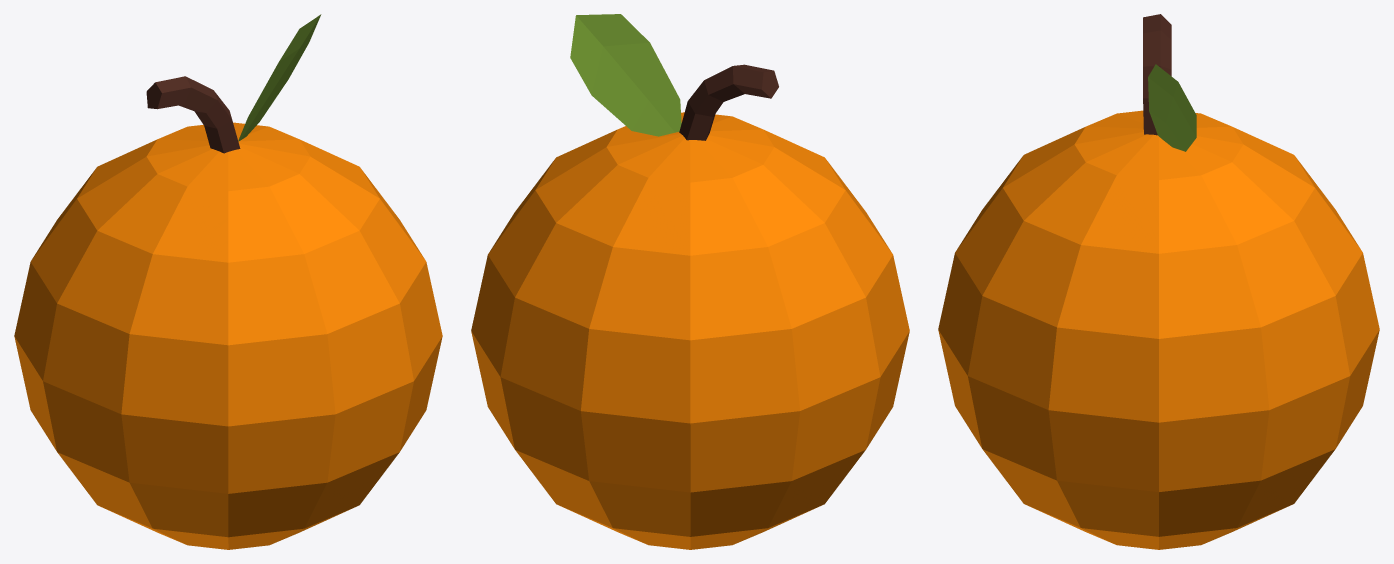
Rendered from orange.fbx.
The picture shows the model from 3 angles, left to right: view 1: azimuth 30°, elevation 25°; view 2: azimuth 150°, elevation 25°; view 3: azimuth 270°, elevation 25°; orthographic projection. The views are drawn at different scales.
Visible parts, largest first — view 1: orange; view 2: orange; view 3: orange.
Part boxes in pixels (bbox=[...]): orange: bbox=[14, 14, 442, 549]; orange: bbox=[471, 14, 909, 549]; orange: bbox=[938, 14, 1379, 549].
Size of the model in its own units: 93.93 by 117 by 93.93.
